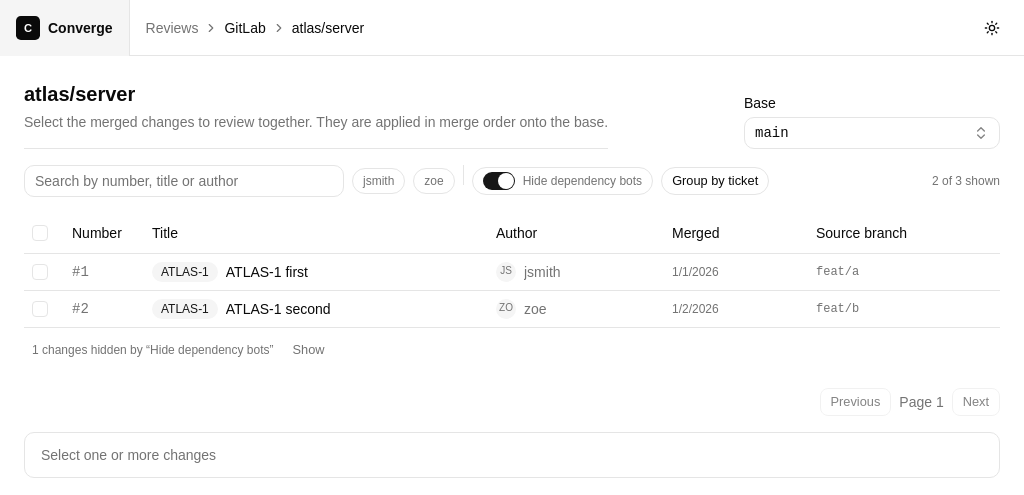
Test: SelectChangesPage › hides dependency-bot changes by default and can show them
The width and height of the screenshot is (1024, 495).
Check: the text "ATLAS-1 first" is shown, box [226,262,308,282]
Check: the text "bump lodash" is not shown
Click the button "Show": [308, 350] box [282,336,336,364]
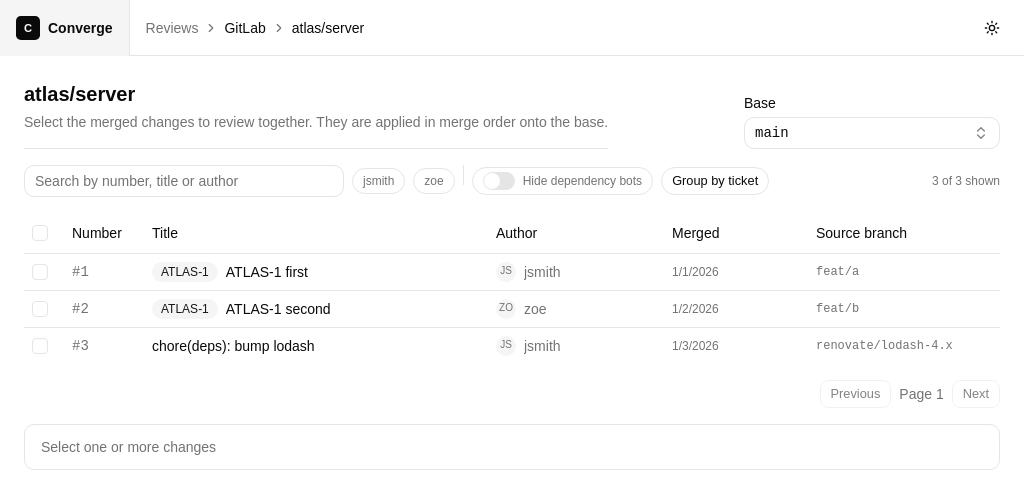
Check: the text "chore(deps): bump lodash" is shown, box [152,336,315,356]
